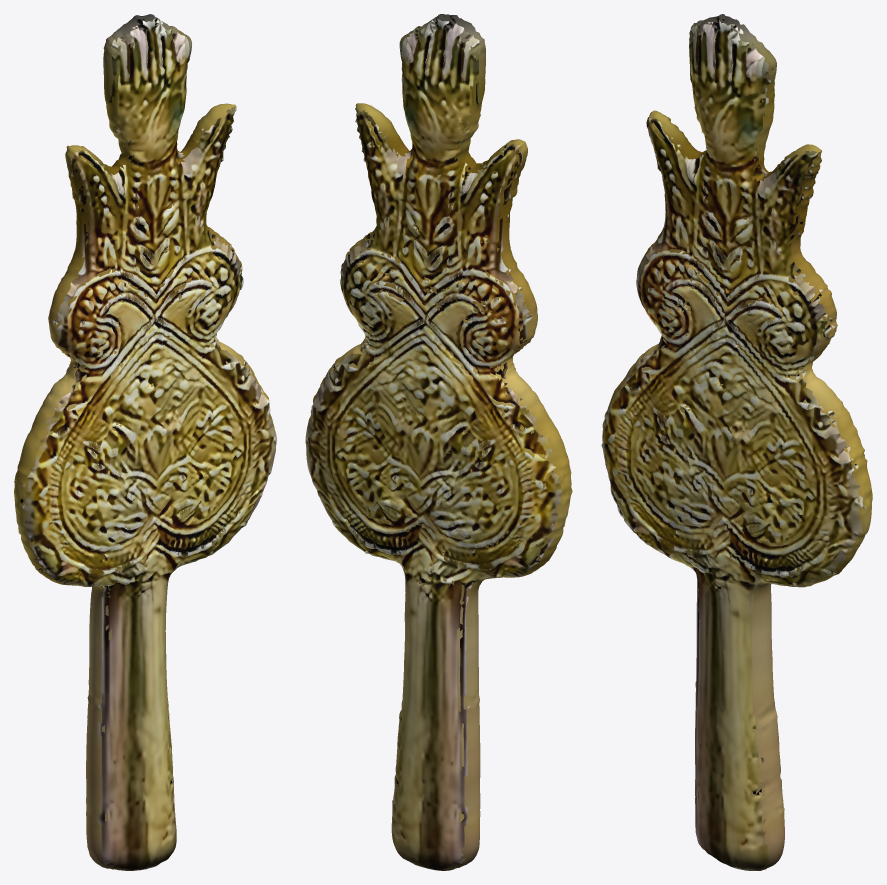
File: kfl-2299.glb
3 views of the same model, side by side, from view 1: azimuth 30°, elevation 25°; view 2: azimuth 150°, elevation 25°; view 3: azimuth 330°, elevation 25° (orthographic). The views are drawn at different scales.
Visible parts, largest first — view 1: kfl-2299; view 2: kfl-2299; view 3: kfl-2299.
Part boxes in pixels (x1,y1,x2,y2): kfl-2299: (14, 14, 276, 870); kfl-2299: (305, 14, 572, 870); kfl-2299: (601, 14, 872, 870).
Bounding box in the file's own units: 0.315 × 0.9909 × 0.0807.
Materials: 4 (4 with a texture image).
